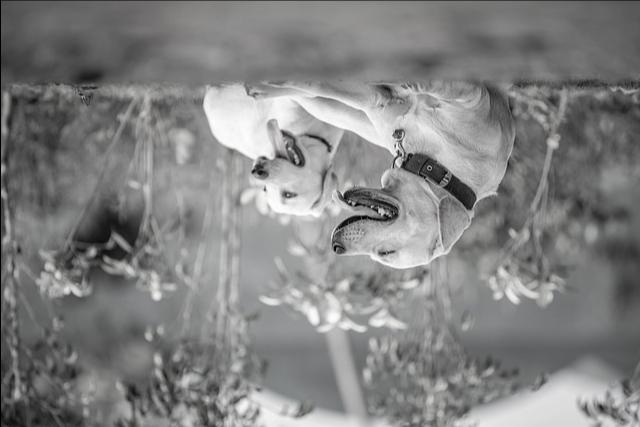Non_Gorille: (114, 25, 566, 338)
